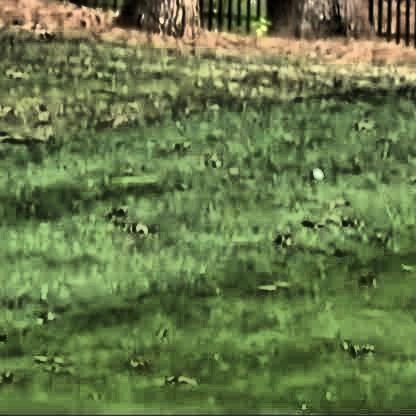golfball: (309, 165, 319, 176)
